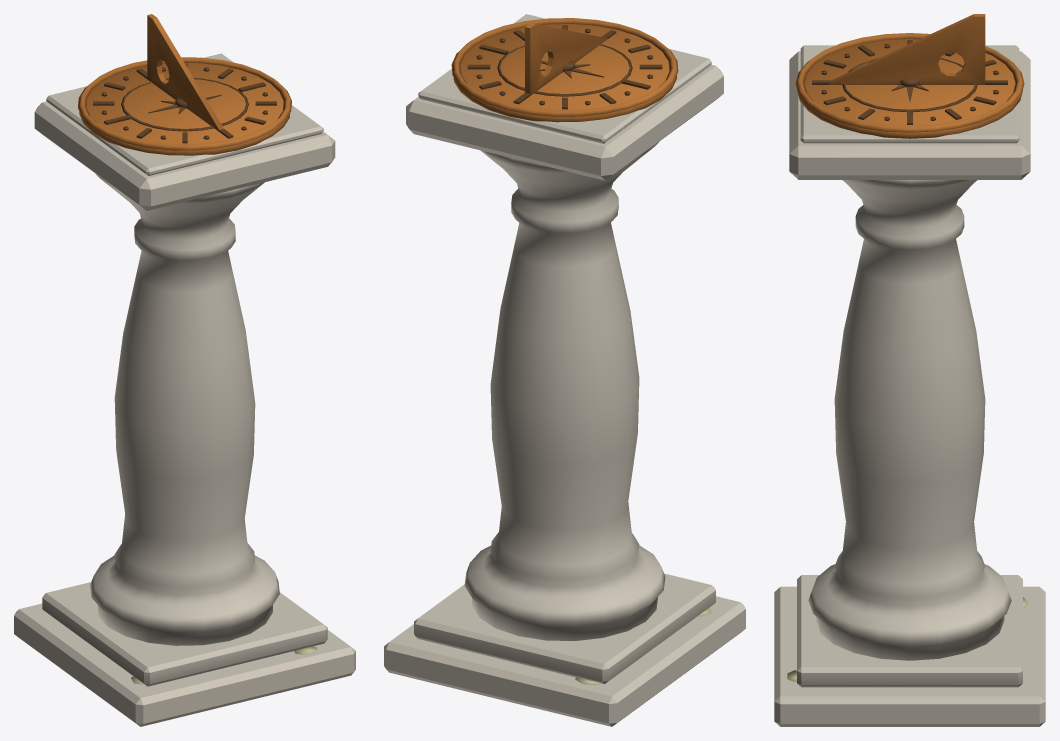
File: sundial.glb
The picture shows the model from 3 angles, left to right: view 1: azimuth 30°, elevation 25°; view 2: azimuth 150°, elevation 25°; view 3: azimuth 270°, elevation 25°; orthographic projection. The views are drawn at different scales.
Parts seen in each view (by area): view 1: sundial; view 2: sundial; view 3: sundial.
Part boxes in pixels (<box>): sundial: <box>14,14,355,726</box>; sundial: <box>384,14,745,726</box>; sundial: <box>774,14,1045,726</box>.
Bounding box in the file's own units: 0.36 × 0.962 × 0.36.
